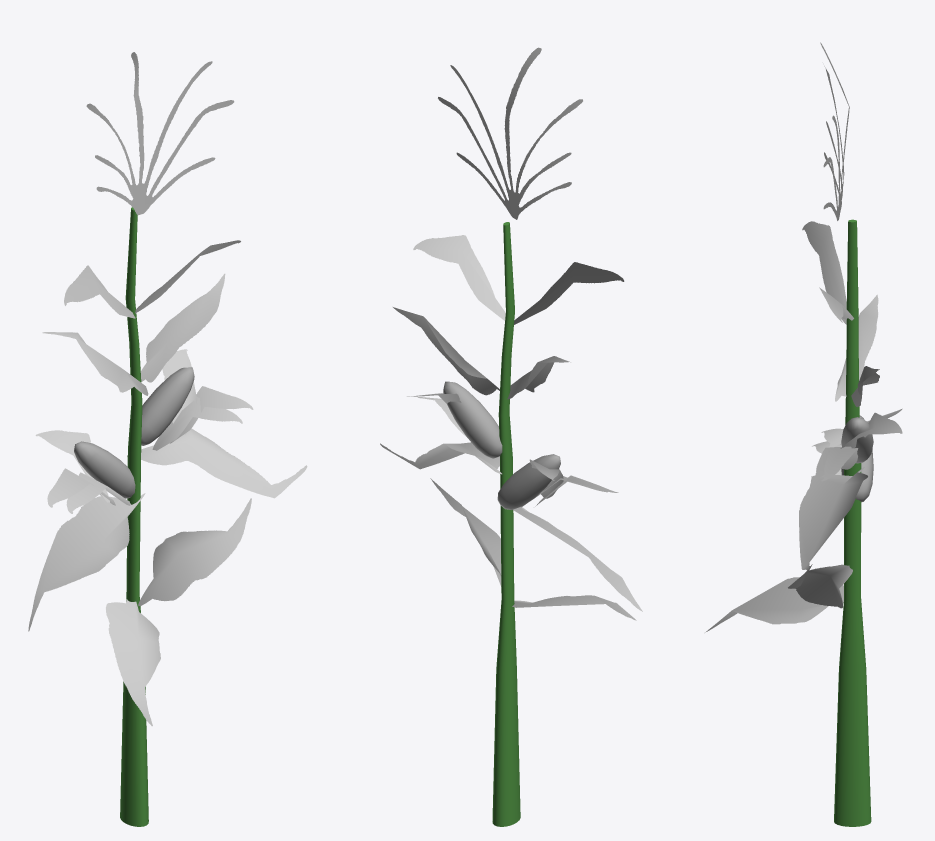
Rendered from Corn_stage_3.fbx.
3 renders of one model, left to right at view 1: azimuth 30°, elevation 25°; view 2: azimuth 150°, elevation 25°; view 3: azimuth 270°, elevation 25°, orthographic. The views are drawn at different scales.
Parts seen in each view (by area): view 1: pCylinder2, pPlane20, pPlane29, POLYSPHERE78 (×2), pPlane19, pPlane30, pPlane3, pPlane27, pPlane25 (×2), pPlane23 (×2), pPlane26 (×2), pPlane28 (+2 smaller); view 2: pCylinder2, POLYSPHERE78 (×2), pPlane3, pPlane21, pPlane27, pPlane22, pPlane20, pPlane29, pPlane30, pPlane19, pPlane28; view 3: pCylinder2, pPlane30, pPlane19, pPlane29, pPlane22, POLYSPHERE78 (×2), pPlane28, pPlane3, pPlane23, pPlane26, pPlane27.
Boxes of the visible parts, <box> form: pCylinder2: <box>120,207,148,826</box>; pPlane20: <box>28,493,145,631</box>; pPlane29: <box>138,498,251,605</box>; POLYSPHERE78 (×2): <box>74,367,194,498</box>; pPlane19: <box>106,599,160,726</box>; pPlane30: <box>127,428,307,498</box>; pPlane3: <box>86,52,234,215</box>; pPlane27: <box>140,273,225,382</box>; pPlane25 (×2): <box>66,397,242,513</box>; pPlane23 (×2): <box>47,386,253,507</box>; pPlane26 (×2): <box>35,349,196,502</box>; pPlane28: <box>42,332,148,395</box>; pCylinder2: <box>492,222,520,826</box>; POLYSPHERE78 (×2): <box>443,381,560,509</box>; pPlane3: <box>438,47,582,219</box>; pPlane21: <box>413,235,505,320</box>; pPlane27: <box>393,307,499,395</box>; pPlane22: <box>514,262,624,324</box>; pPlane20: <box>513,507,642,611</box>; pPlane29: <box>430,478,501,586</box>; pPlane30: <box>380,442,501,474</box>; pPlane19: <box>512,595,636,620</box>; pPlane28: <box>507,356,570,399</box>; pCylinder2: <box>834,219,871,826</box>; pPlane30: <box>799,467,867,569</box>; pPlane19: <box>705,577,843,632</box>; pPlane29: <box>788,564,852,608</box>; pPlane22: <box>802,221,846,324</box>; POLYSPHERE78 (×2): <box>841,415,873,502</box>; pPlane28: <box>835,294,878,401</box>; pPlane3: <box>820,42,849,220</box>; pPlane23: <box>821,448,858,481</box>; pPlane26: <box>840,412,902,448</box>; pPlane27: <box>851,366,879,406</box>.
Bounding box in the file's own units: 3.58 × 8.79 × 2.4.
